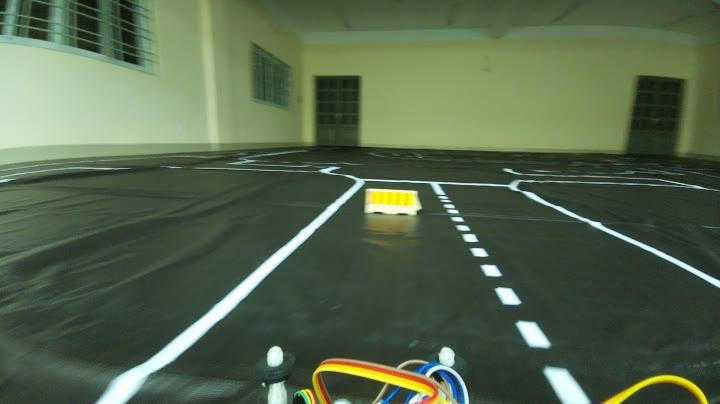roadblock: (358, 182, 424, 228)
